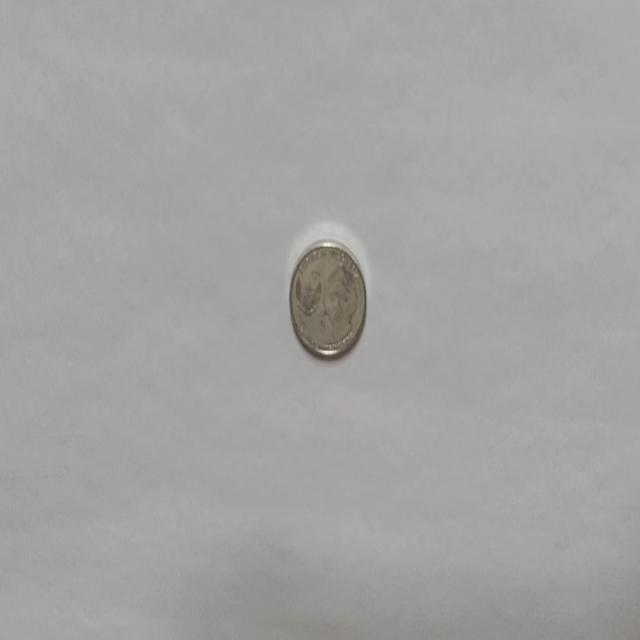dua ratus rupiah: (288, 237, 367, 359)
